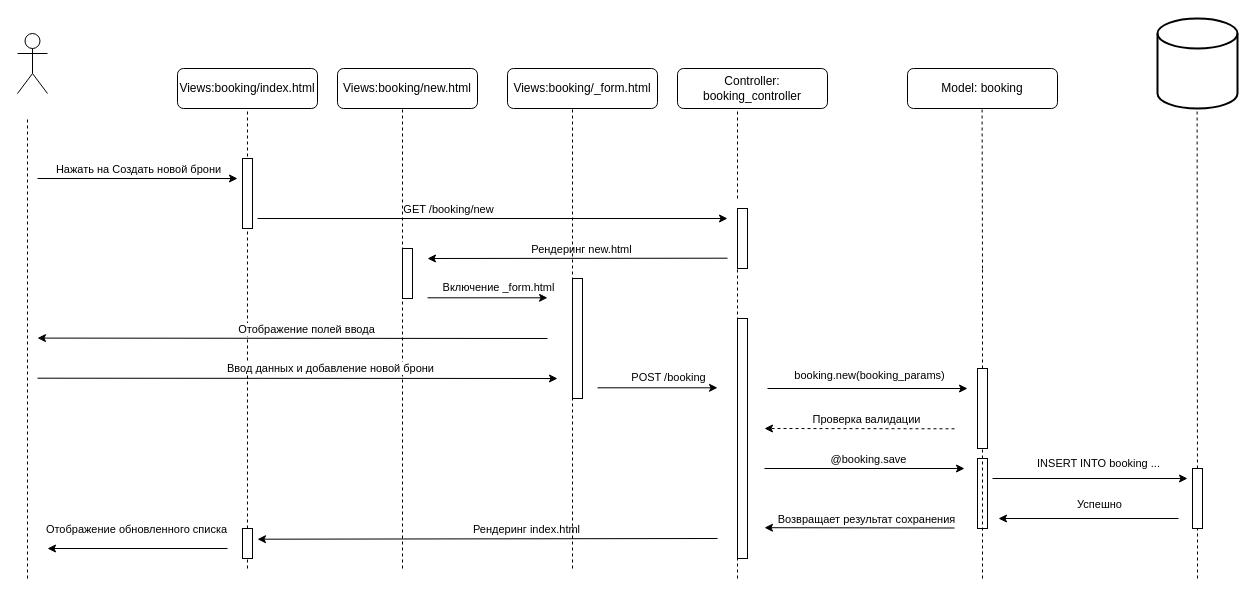
The diagram is 1256 pixels wide and 597 high, and some of its shapes have lost their labels. Here are the shapes that lost their labels. From the top down, the centre of each, then its label:
At point 32,63: "User".
At point 1197,63: "DB".
